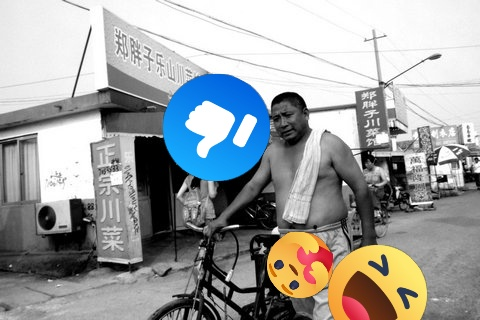care: (267, 232, 333, 298)
haha: (328, 245, 427, 320)
like: (163, 74, 270, 181)
